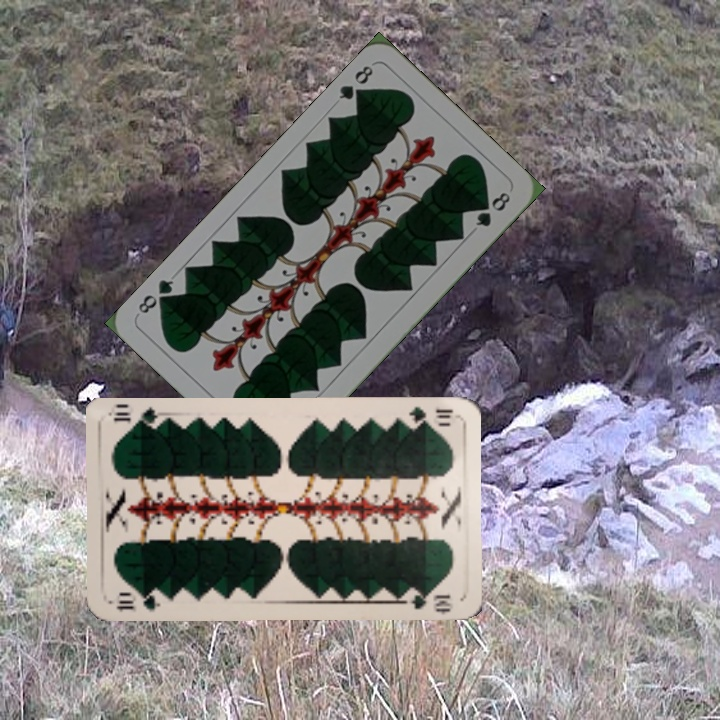G10: (404, 402, 455, 428), (113, 588, 163, 614)
G8: (335, 61, 376, 105)
